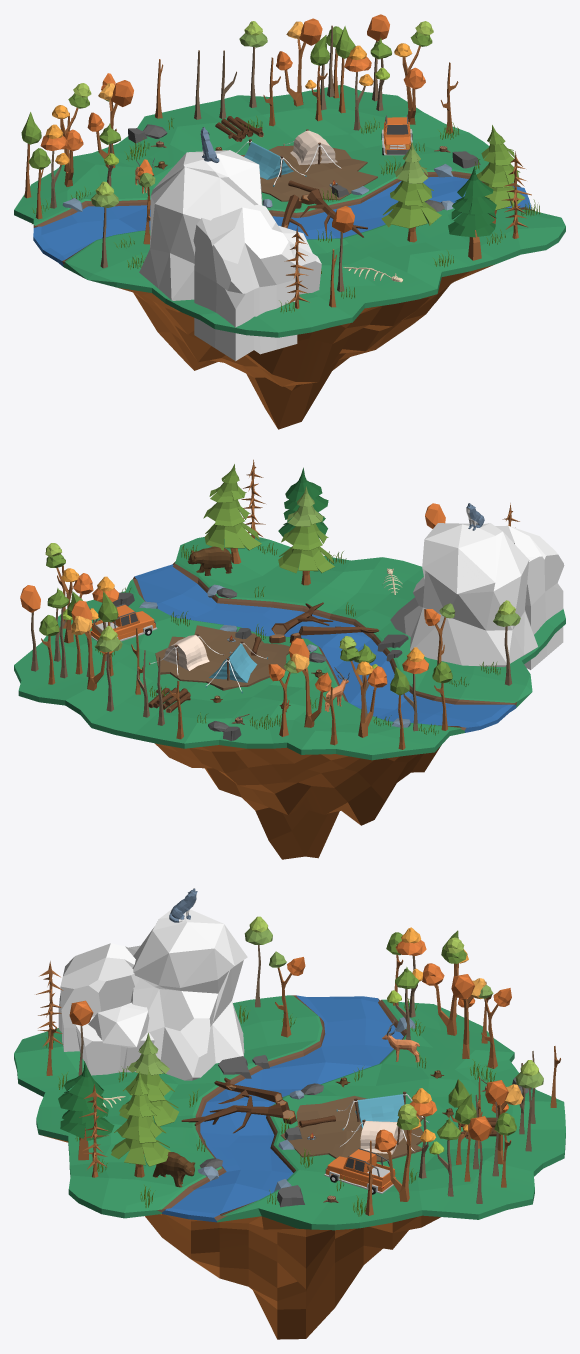
Rendered from Camping1.glb.
3 renders of one model, top to bottom at view 1: azimuth 30°, elevation 25°; view 2: azimuth 150°, elevation 25°; view 3: azimuth 270°, elevation 25°, orthographic. The views are drawn at different scales.
Parts seen in each view (by area): view 1: Floting_Base_1, Big_Rock, Tree, Christmas_Tree, Floting_Base_2, Trunk, Tant, Tree_1__1_, Tree_7__1_, Car, Tree_4__1_, Tree_9__1_ (+6 smaller); view 2: Floting_Base_1, Big_Rock, Tree, Christmas_Tree, Floting_Base_2, Trunk, Tant, Tree_1__1_, Car, Tree_7__1_, Bear, Tree_4__1_ (+5 smaller); view 3: Floting_Base_1, Big_Rock, Tree, Christmas_Tree, Floting_Base_2, Trunk, Tant, Car, Tree_1__1_, Tree_7__1_, Rock, Tree_11__1_ (+6 smaller).
Part boxes in pixels (x1=…): Floting_Base_1: x1=14, y1=85, x2=565, y2=429; Big_Rock: x1=139, y1=150, x2=321, y2=361; Tree: x1=101, y1=14, x2=433, y2=154; Christmas_Tree: x1=381, y1=125, x2=525, y2=260; Floting_Base_2: x1=241, y1=145, x2=377, y2=201; Trunk: x1=151, y1=25, x2=531, y2=238; Tant: x1=236, y1=129, x2=341, y2=186; Tree_1__1_: x1=52, y1=83, x2=91, y2=186; Tree_7__1_: x1=87, y1=80, x2=133, y2=168; Car: x1=381, y1=115, x2=412, y2=155; Tree_4__1_: x1=40, y1=124, x2=69, y2=208; Tree_9__1_: x1=90, y1=181, x2=118, y2=268; Floting_Base_1: x1=14, y1=535, x2=565, y2=859; Big_Rock: x1=390, y1=523, x2=564, y2=669; Tree: x1=20, y1=543, x2=297, y2=736; Christmas_Tree: x1=203, y1=464, x2=334, y2=585; Floting_Base_2: x1=155, y1=625, x2=289, y2=690; Trunk: x1=60, y1=459, x2=379, y2=739; Tant: x1=149, y1=633, x2=267, y2=693; Tree_1__1_: x1=339, y1=636, x2=387, y2=737; Car: x1=91, y1=603, x2=157, y2=641; Tree_7__1_: x1=288, y1=638, x2=331, y2=727; Bear: x1=187, y1=546, x2=232, y2=575; Tree_4__1_: x1=402, y1=647, x2=428, y2=731; Floting_Base_1: x1=14, y1=995, x2=565, y2=1339; Big_Rock: x1=58, y1=909, x2=247, y2=1080; Tree: x1=374, y1=984, x2=543, y2=1203; Christmas_Tree: x1=58, y1=1033, x2=178, y2=1177; Floting_Base_2: x1=280, y1=1095, x2=423, y2=1162; Trunk: x1=79, y1=1046, x2=560, y2=1177; Tant: x1=336, y1=1091, x2=429, y2=1154; Car: x1=324, y1=1148, x2=395, y2=1194; Tree_1__1_: x1=422, y1=937, x2=468, y2=1035; Tree_7__1_: x1=451, y1=974, x2=486, y2=1058; Rock: x1=198, y1=1056, x2=323, y2=1191; Tree_11__1_: x1=269, y1=951, x2=305, y2=1037.
Size of the model in its own units: 12 by 9.34 by 12.23.
Materials: 1 (1 with a texture image).
